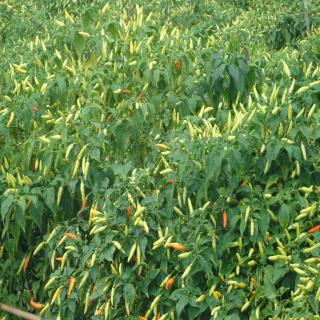Cabai Hijau: (2, 2, 320, 320)
